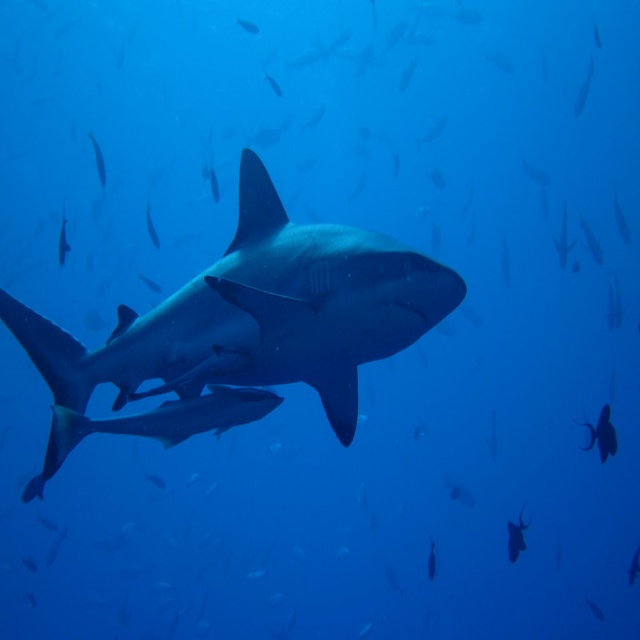Shark: (0, 142, 474, 448)
